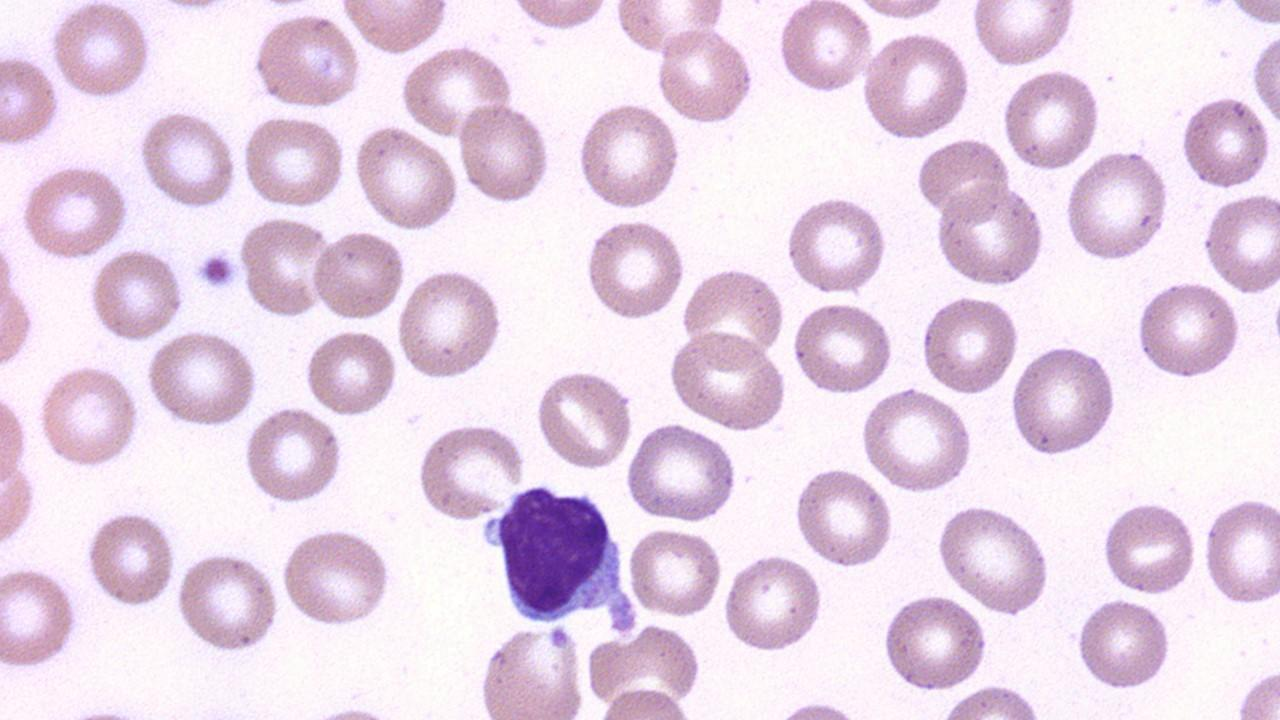Platelets: (196, 246, 239, 292)
RBC: (936, 502, 1054, 616), (395, 265, 506, 382), (1008, 342, 1118, 460), (1063, 147, 1173, 264), (859, 30, 974, 140), (858, 387, 976, 493), (574, 99, 684, 212), (666, 331, 788, 431), (278, 525, 394, 630), (932, 183, 1047, 288), (623, 420, 739, 524), (350, 124, 461, 232), (144, 328, 261, 428), (36, 363, 144, 470), (251, 10, 364, 112), (474, 619, 590, 718), (680, 264, 788, 370), (580, 216, 689, 321), (414, 421, 527, 522), (398, 43, 515, 140), (174, 550, 282, 655), (1133, 279, 1243, 382), (585, 622, 704, 716), (18, 162, 132, 260), (879, 591, 989, 692), (791, 464, 895, 570), (999, 68, 1105, 172), (784, 194, 892, 295), (721, 551, 826, 654), (240, 404, 345, 506), (533, 366, 634, 472), (240, 111, 348, 210), (652, 25, 756, 127), (918, 293, 1022, 395), (454, 101, 554, 207), (136, 108, 240, 209), (48, 1, 153, 101), (790, 299, 898, 396), (237, 215, 336, 318), (1072, 594, 1176, 692), (1100, 496, 1200, 596), (83, 507, 177, 611), (624, 524, 724, 621), (87, 246, 185, 344), (775, 1, 874, 96), (1178, 92, 1272, 190), (1201, 492, 1279, 609), (313, 227, 406, 323), (302, 327, 399, 418), (1, 564, 82, 672), (1200, 188, 1280, 297), (913, 136, 1011, 221), (970, 2, 1078, 70), (613, 2, 730, 61), (0, 46, 63, 151), (338, 1, 451, 56), (2, 250, 36, 381), (938, 681, 1046, 720), (594, 684, 701, 720), (0, 374, 30, 497), (0, 458, 38, 552), (504, 0, 615, 32), (1248, 25, 1280, 134), (1233, 661, 1279, 716), (849, 0, 956, 23), (1220, 0, 1280, 28)
WBC: (691, 37, 1264, 720), (1, 0, 540, 441), (491, 480, 633, 628)
